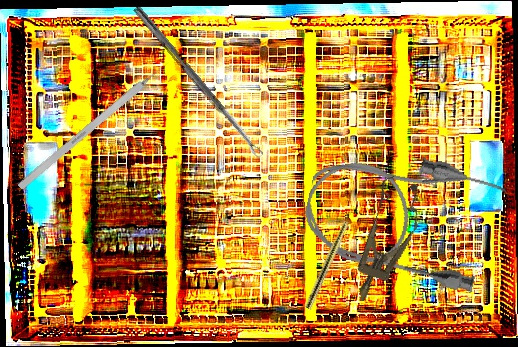Cannula: (295, 134, 510, 296)
Handpiece: (304, 204, 358, 311)
Hook Surgical: (16, 58, 173, 191)
Speculum: (337, 172, 432, 310)
Surgical Spoon: (132, 5, 264, 160)
